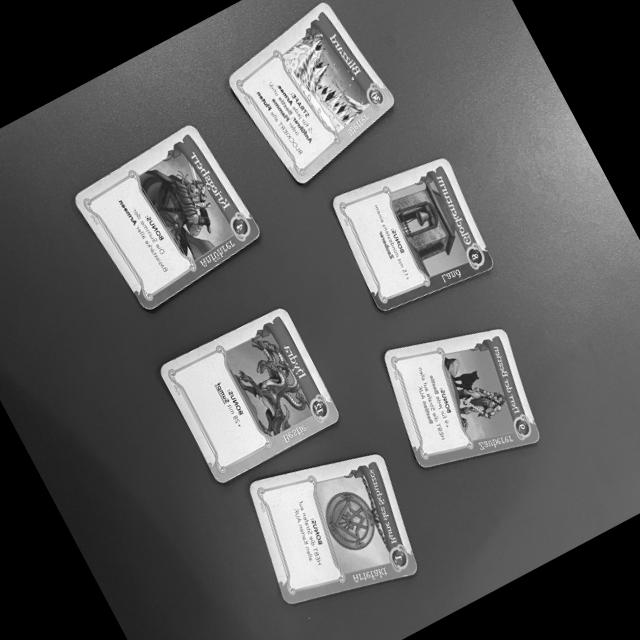Beast Master: (382, 329, 545, 470)
Blizzard: (223, 0, 396, 185)
Clock Tower: (329, 156, 497, 315)
Hydra: (156, 302, 344, 485)
Rune Of Protection: (245, 455, 422, 608)
Warlord: (69, 119, 268, 313)
